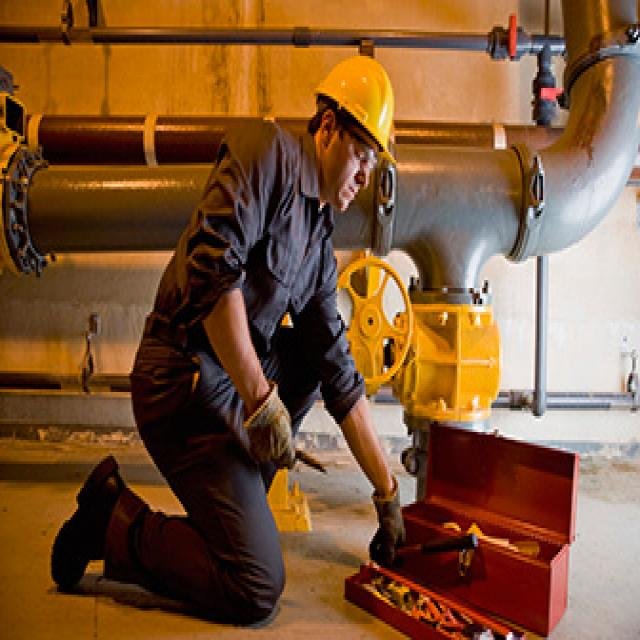Safety-Helmet: (312, 48, 402, 168)
